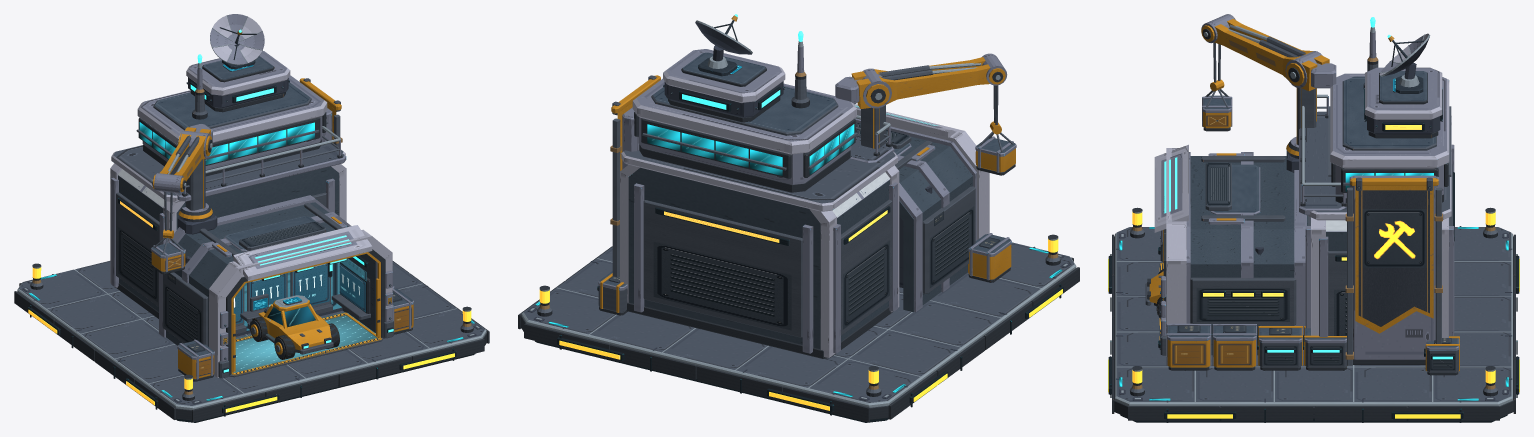
The model's file is TO03_TallerAvanzado.fbx.
3 renders of one model, left to right at view 1: azimuth 30°, elevation 25°; view 2: azimuth 150°, elevation 25°; view 3: azimuth 270°, elevation 25°, orthographic. The views are drawn at different scales.
Parts seen in each view (by area): view 1: TallerDeObras_3; view 2: TallerDeObras_3; view 3: TallerDeObras_3.
Part boxes in pixels (<box>): TallerDeObras_3: <box>14,14,489,422</box>; TallerDeObras_3: <box>518,14,1079,422</box>; TallerDeObras_3: <box>1108,14,1519,422</box>.
Bounding box in the file's own units: 6.6 × 5.33 × 6.3.
